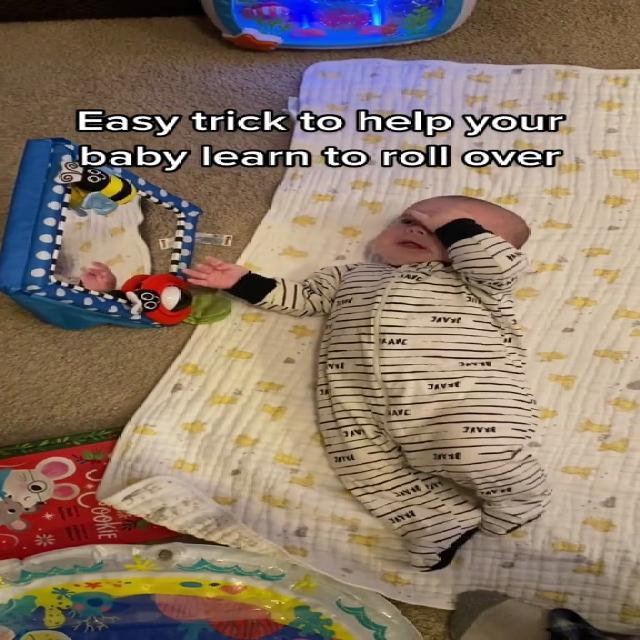baby: (174, 190, 587, 570)
